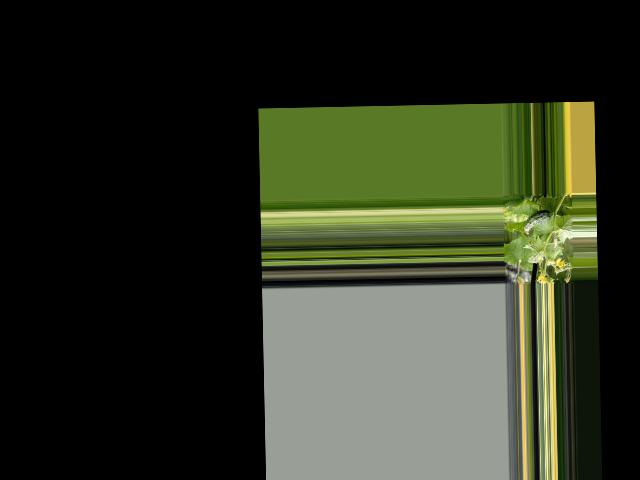cucumber: (523, 210, 552, 235)
